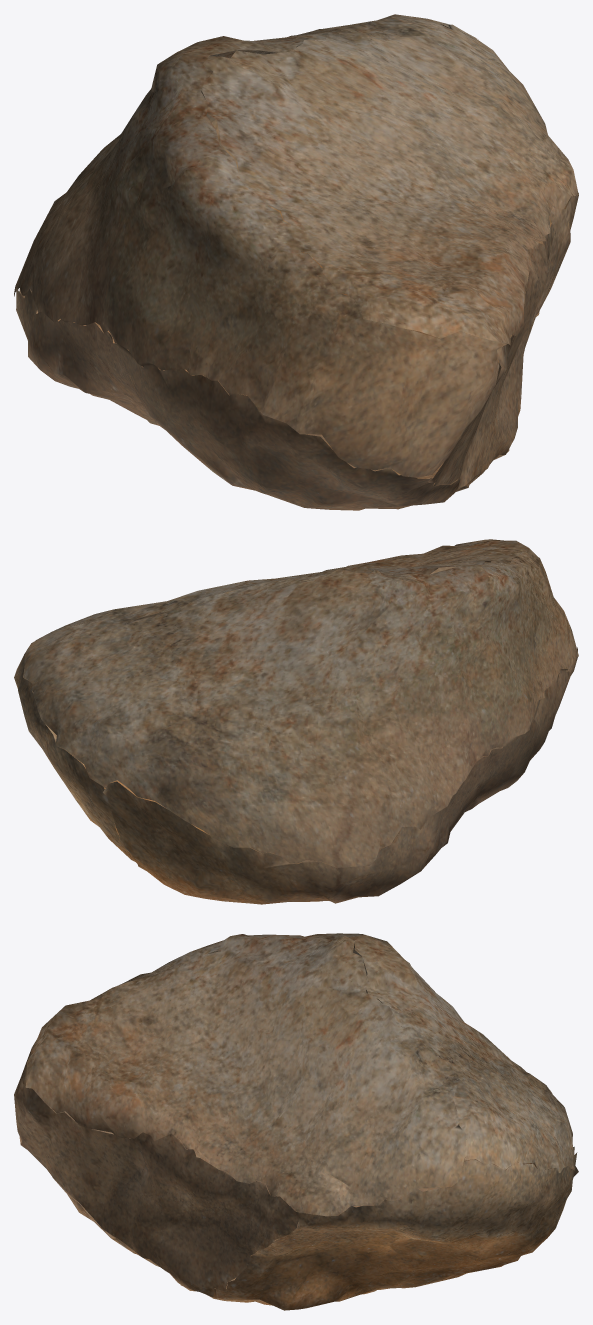
Rendered from SM_CinderScenery_Rock_E.fbx.
The picture shows the model from 3 angles, top to bottom: view 1: azimuth 30°, elevation 25°; view 2: azimuth 150°, elevation 25°; view 3: azimuth 270°, elevation 25°; orthographic projection. The views are drawn at different scales.
Visible parts, largest first — view 1: SM_CinderScenery_Rock_E; view 2: SM_CinderScenery_Rock_E; view 3: SM_CinderScenery_Rock_E.
Part boxes in pixels (x1=…): SM_CinderScenery_Rock_E: x1=14, y1=14, x2=578, y2=510; SM_CinderScenery_Rock_E: x1=14, y1=539, x2=578, y2=904; SM_CinderScenery_Rock_E: x1=14, y1=933, x2=578, y2=1310.
Bounding box in the file's own units: 79.01 × 100 × 58.76.
